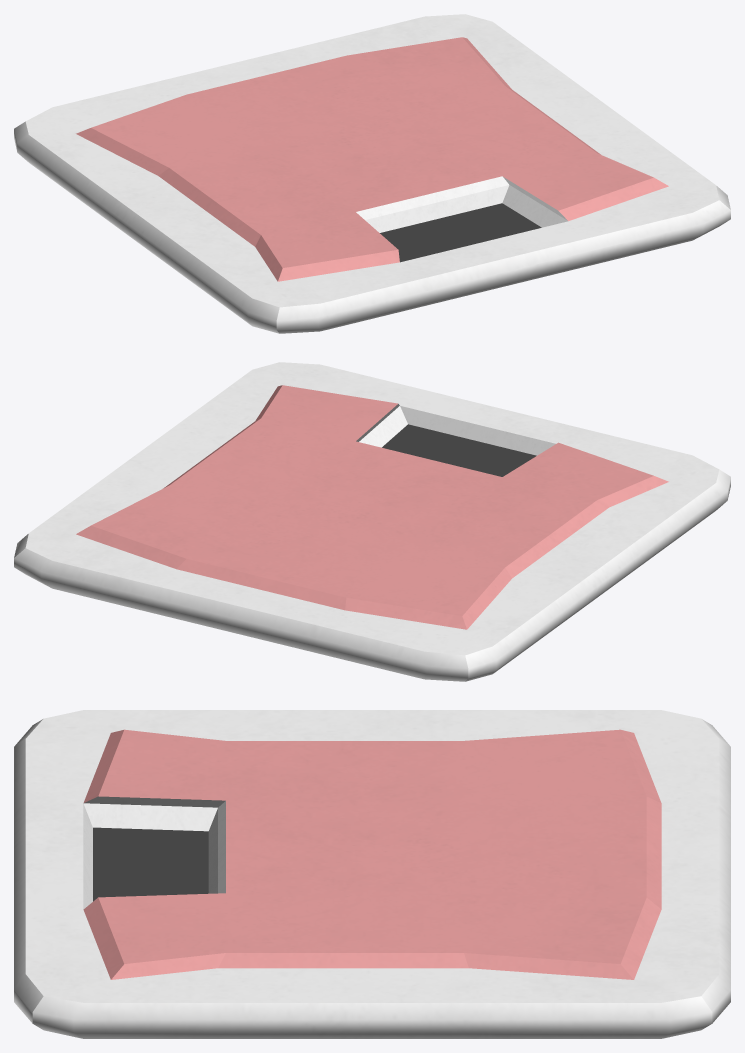
File: WeightingScale.fbx
The picture shows the model from 3 angles, top to bottom: view 1: azimuth 30°, elevation 25°; view 2: azimuth 150°, elevation 25°; view 3: azimuth 270°, elevation 25°; orthographic projection. The views are drawn at different scales.
Parts seen in each view (by area): view 1: WeightingScale; view 2: WeightingScale; view 3: WeightingScale.
Part boxes in pixels (x1,y1,x2,y2): WeightingScale: (14, 14, 730, 333); WeightingScale: (14, 362, 730, 681); WeightingScale: (14, 710, 730, 1038).
Size of the model in its own units: 0.658 by 0.0462 by 0.6588.
